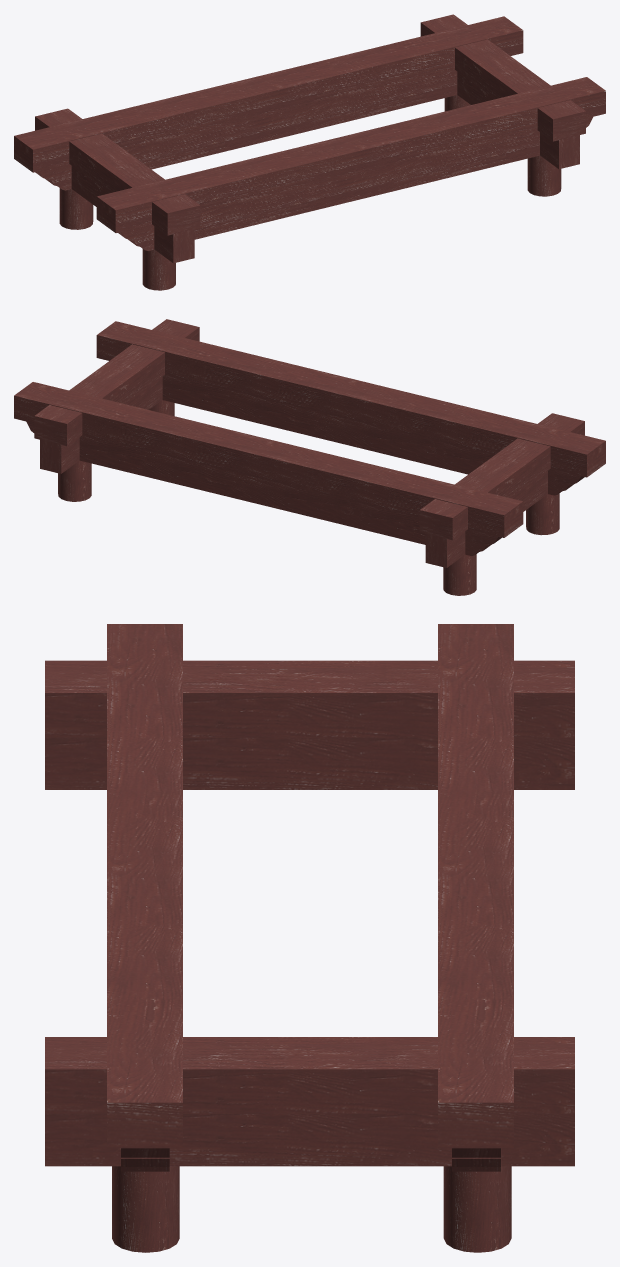
Rendered from SM_Sun_Gate_Bang.fbx.
3 renders of one model, top to bottom at view 1: azimuth 30°, elevation 25°; view 2: azimuth 150°, elevation 25°; view 3: azimuth 270°, elevation 25°, orthographic. The views are drawn at different scales.
Parts seen in each view (by area): view 1: SM_Sun_Gate_Bang; view 2: SM_Sun_Gate_Bang; view 3: SM_Sun_Gate_Bang.
Boxes of the visible parts, x1,y1,x2,y2 form: SM_Sun_Gate_Bang: [14, 14, 605, 290]; SM_Sun_Gate_Bang: [14, 319, 605, 595]; SM_Sun_Gate_Bang: [45, 624, 574, 1252].
Bounding box in the file's own units: 402 × 73.12 × 188.
